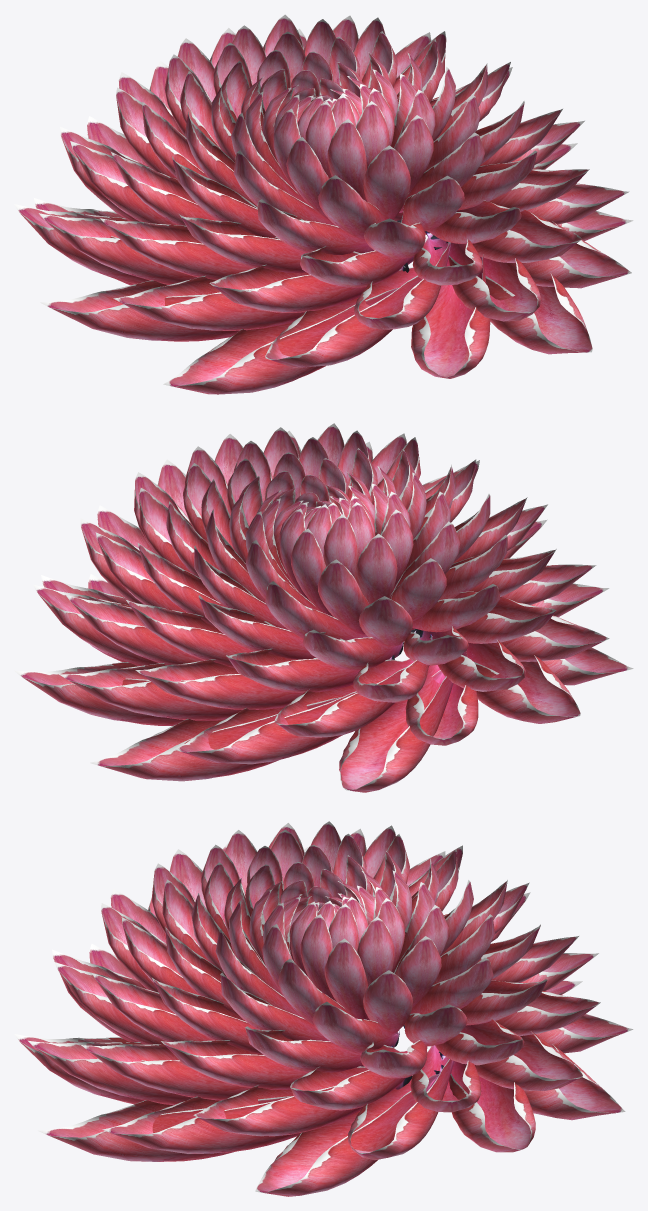
File: dahlia.glb
The picture shows the model from 3 angles, top to bottom: view 1: azimuth 30°, elevation 25°; view 2: azimuth 150°, elevation 25°; view 3: azimuth 270°, elevation 25°; orthographic projection. The views are drawn at different scales.
Visible parts, largest first — view 1: Dahlia Flower.001; view 2: Dahlia Flower.001; view 3: Dahlia Flower.001.
Boxes of the visible parts, <box> form: Dahlia Flower.001: <box>14,14,633,394</box>; Dahlia Flower.001: <box>14,423,633,792</box>; Dahlia Flower.001: <box>14,821,633,1196</box>.
Bounding box in the file's own units: 2.48 × 0.9982 × 2.49.
Materials: 1 (1 with a texture image).
